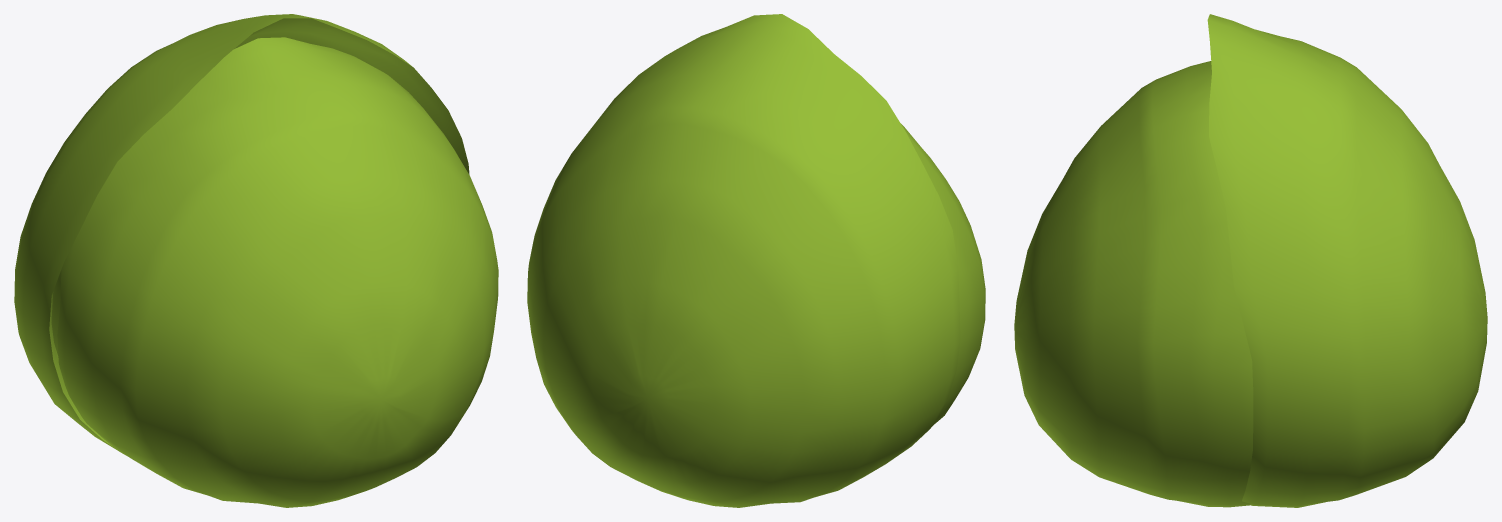
Rendered from mesh_lettuce.fbx.
3 renders of one model, left to right at view 1: azimuth 30°, elevation 25°; view 2: azimuth 150°, elevation 25°; view 3: azimuth 270°, elevation 25°, orthographic. The views are drawn at different scales.
Visible parts, largest first — view 1: mesh_lettuce_peel02, mesh_lettuce_peel01; view 2: mesh_lettuce_peel01, mesh_lettuce_peel02; view 3: mesh_lettuce_peel01, mesh_lettuce_peel02.
Part boxes in pixels (x1=…): mesh_lettuce_peel02: x1=57, y1=37, x2=498, y2=507; mesh_lettuce_peel01: x1=14, y1=14, x2=469, y2=454; mesh_lettuce_peel01: x1=527, y1=14, x2=960, y2=507; mesh_lettuce_peel02: x1=901, y1=124, x2=985, y2=424; mesh_lettuce_peel01: x1=1207, y1=14, x2=1487, y2=507; mesh_lettuce_peel02: x1=1014, y1=61, x2=1253, y2=507.
Bounding box in the file's own units: 0.2481 × 0.2602 × 0.2423.
